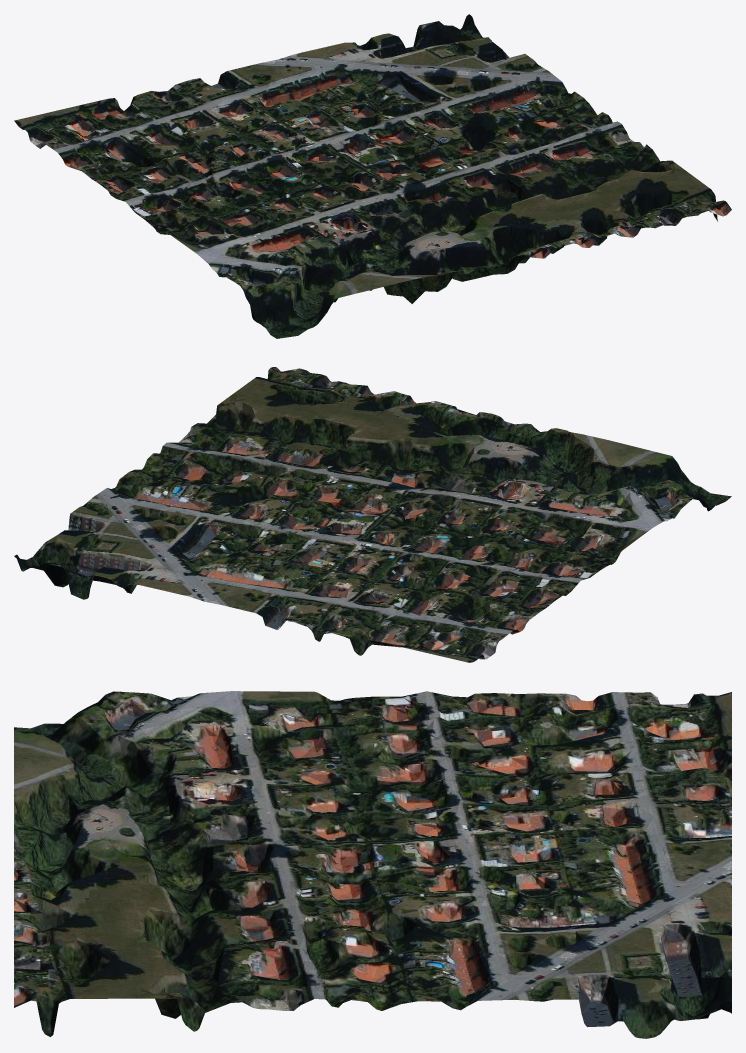
Rendered from map_13_2047_3447.dae.
The picture shows the model from 3 angles, top to bottom: view 1: azimuth 30°, elevation 25°; view 2: azimuth 150°, elevation 25°; view 3: azimuth 270°, elevation 25°; orthographic projection. The views are drawn at different scales.
Parts seen in each view (by area): view 1: Ter0; view 2: Ter0; view 3: Ter0.
Part boxes in pixels (bbox=[...]): Ter0: bbox=[14, 14, 731, 338]; Ter0: bbox=[14, 367, 731, 662]; Ter0: bbox=[14, 691, 731, 1038].
Size of the model in its own units: 256 by 256 by 20.38.
2 materials, 2 textured.
